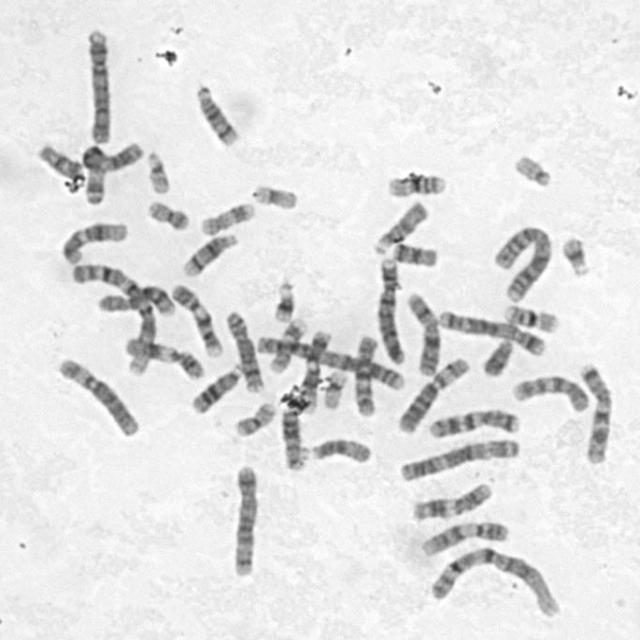A1: (66, 256, 158, 376), (426, 542, 562, 619)
A2: (250, 332, 408, 392), (488, 220, 554, 304)
A3: (394, 432, 523, 484), (77, 138, 145, 208)
B4: (82, 23, 116, 146), (373, 252, 408, 365)
B5: (434, 304, 548, 358), (226, 460, 260, 580)
C10: (509, 369, 593, 414), (352, 330, 379, 418)
C11: (121, 332, 208, 382), (406, 477, 494, 522)
C12: (292, 324, 334, 414), (57, 217, 130, 265)
C6: (52, 352, 142, 438), (392, 351, 472, 436)
C7: (576, 358, 614, 466), (424, 404, 522, 439)
C8: (220, 305, 266, 395), (97, 279, 180, 326)
C9: (166, 278, 222, 358), (417, 515, 511, 559)
D13: (188, 358, 246, 414), (278, 404, 310, 472)
D14: (189, 78, 240, 148), (179, 228, 241, 278)
D15: (367, 196, 430, 256), (306, 432, 374, 466)
E16: (499, 298, 561, 334), (382, 168, 448, 198)
E17: (264, 312, 310, 375), (195, 196, 256, 237)
E18: (32, 138, 81, 181), (389, 238, 440, 268)
F19: (247, 178, 301, 212), (318, 364, 350, 411)
F20: (230, 396, 278, 438), (142, 195, 192, 232)
G21: (557, 230, 592, 278), (269, 275, 298, 324)
G22: (509, 148, 553, 188), (141, 145, 172, 196)
X: (402, 288, 443, 378)
Y: (478, 333, 517, 379)
